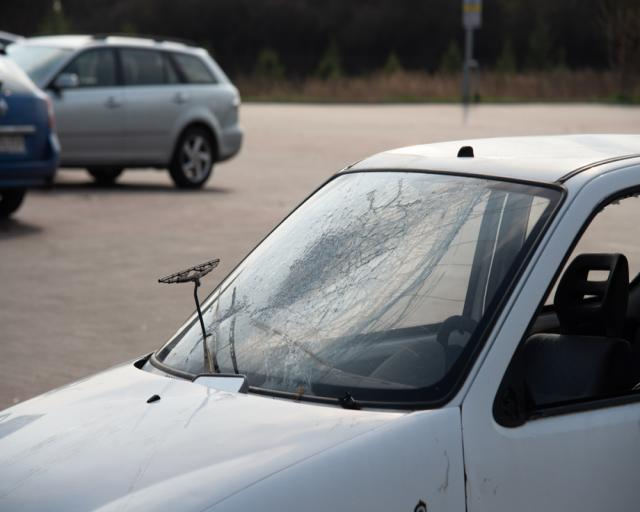dent: (377, 135, 609, 160)
glass shatter: (155, 170, 563, 404)
